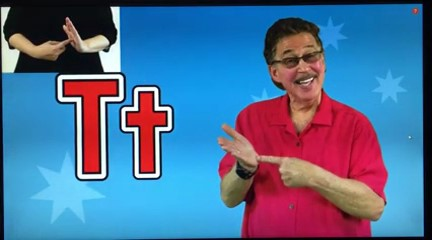T: (208, 119, 327, 199)
